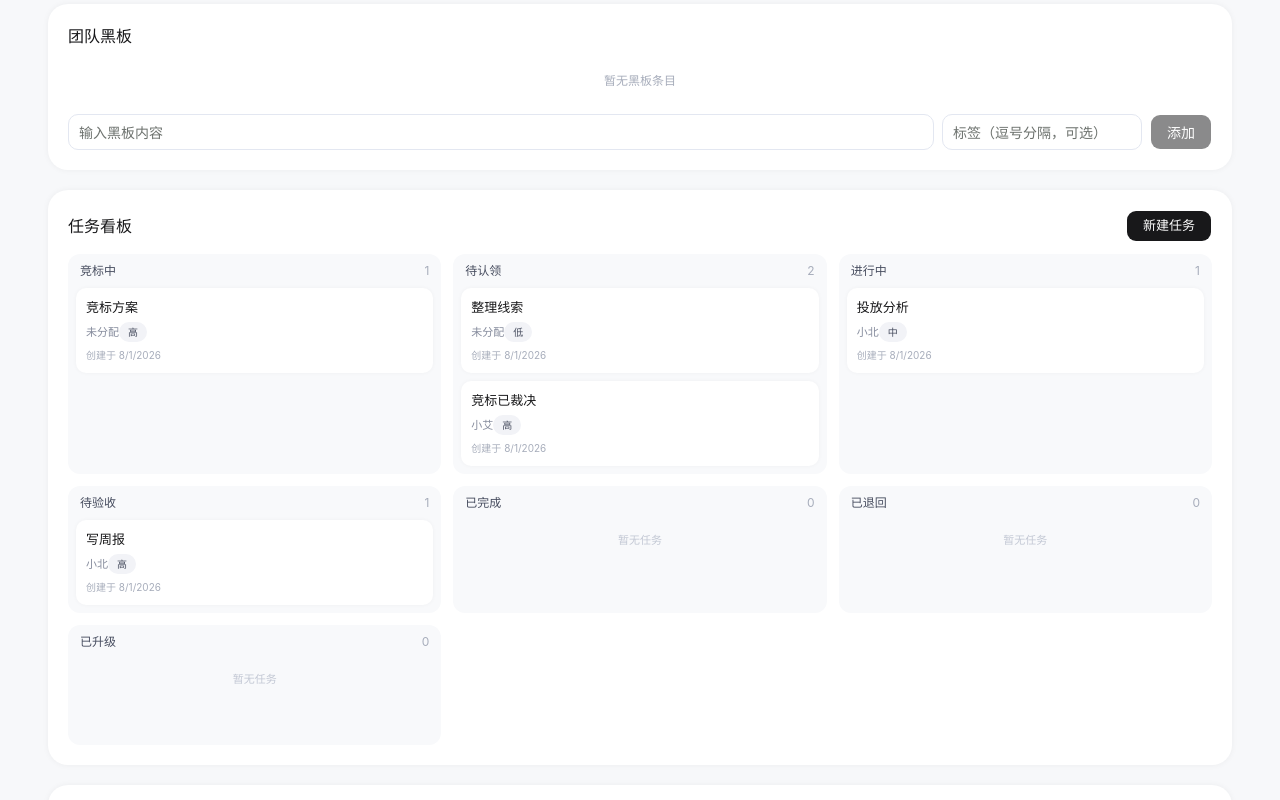
Scenario: TeamDetailPage › renders the bidding arena with HP bars and the winner crown
(page scrolled)
Click the text "竞标已裁决" at (504, 400), box top-left (471, 391), bottom-right (536, 409)
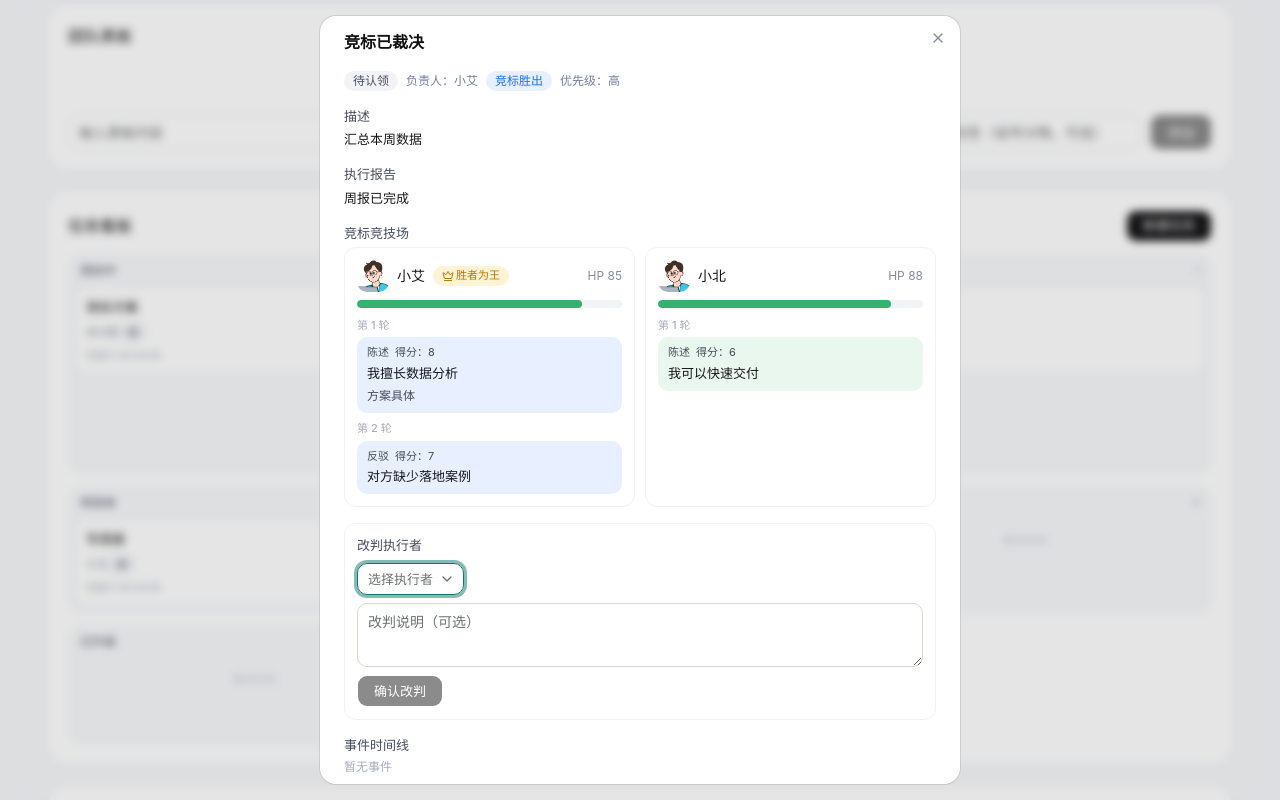
Result: the text "HP 85" is shown at top-left (588, 267), bottom-right (622, 284)
Result: the text "HP 88" is shown at top-left (888, 267), bottom-right (923, 284)
Result: the text "胜者为王" is shown at top-left (433, 266), bottom-right (509, 286)
